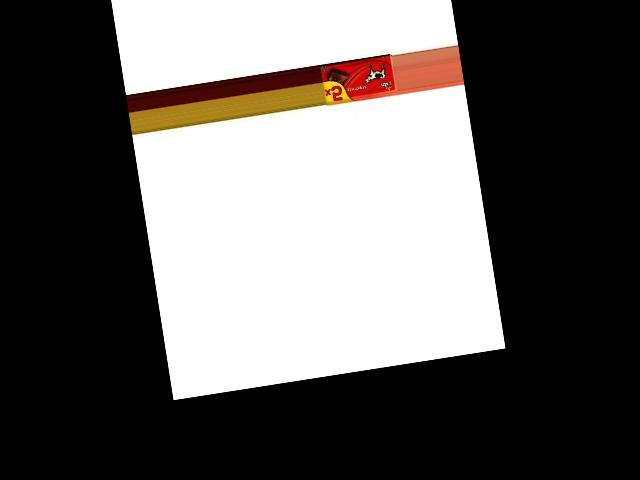chocolate: (320, 53, 398, 107)
